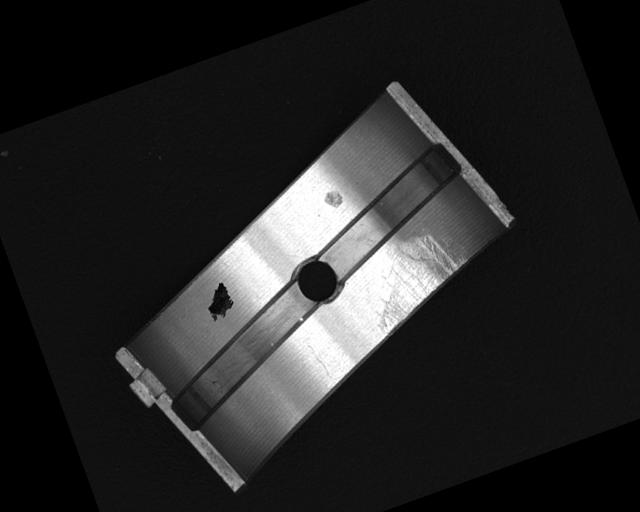blot: (200, 280, 239, 324)
bruise: (322, 187, 346, 212)
gap: (146, 275, 346, 431), (297, 138, 487, 285)
hole: (285, 248, 348, 315)
nick: (304, 338, 335, 386)
scratch: (353, 220, 483, 337)
